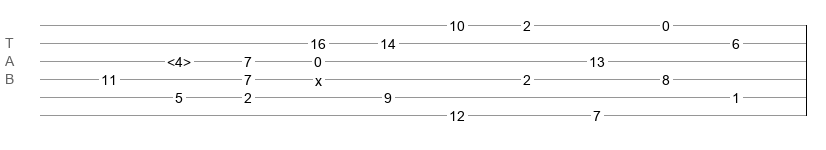0: (314, 54, 322, 64), (662, 18, 670, 28)
1: (732, 90, 740, 100)
10: (449, 18, 465, 28)
11: (101, 72, 117, 82)
12: (449, 108, 465, 118)
13: (589, 54, 605, 64)
14: (380, 36, 396, 46)
16: (310, 36, 326, 46)
2: (244, 90, 252, 100), (523, 72, 531, 82), (523, 18, 531, 28)
5: (175, 90, 183, 100)
6: (732, 36, 740, 46)
7: (244, 72, 252, 82), (244, 54, 252, 64), (593, 108, 601, 118)
8: (662, 72, 670, 82)
9: (384, 90, 392, 100)
harmonic: (167, 54, 191, 64)
x: (315, 73, 322, 81)
